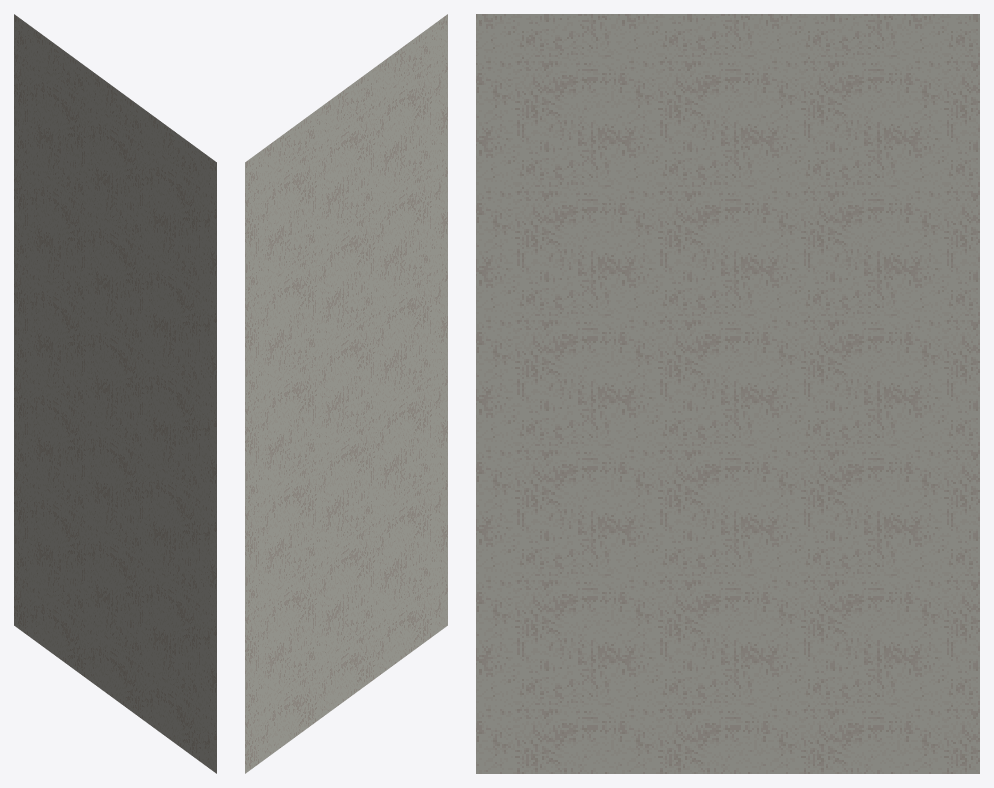
Rendered from kd_stage_135c43_4_30_bounded_piece_13.glb.
3 renders of one model, left to right at view 1: azimuth 30°, elevation 25°; view 2: azimuth 150°, elevation 25°; view 3: azimuth 270°, elevation 25°, orthographic. The views are drawn at different scales.
Parts seen in each view (by area): view 1: kd_stage_135c43_4_30_bounded_piece_13; view 2: kd_stage_135c43_4_30_bounded_piece_13; view 3: kd_stage_135c43_4_30_bounded_piece_13.
Boxes of the visible parts, x1,y1,x2,y2 form: kd_stage_135c43_4_30_bounded_piece_13: (14, 14, 216, 773); kd_stage_135c43_4_30_bounded_piece_13: (245, 14, 447, 773); kd_stage_135c43_4_30_bounded_piece_13: (476, 14, 979, 773).
Bounding box in the file's own units: 0 × 2.27 × 1.37.
1 material, 1 textured.
